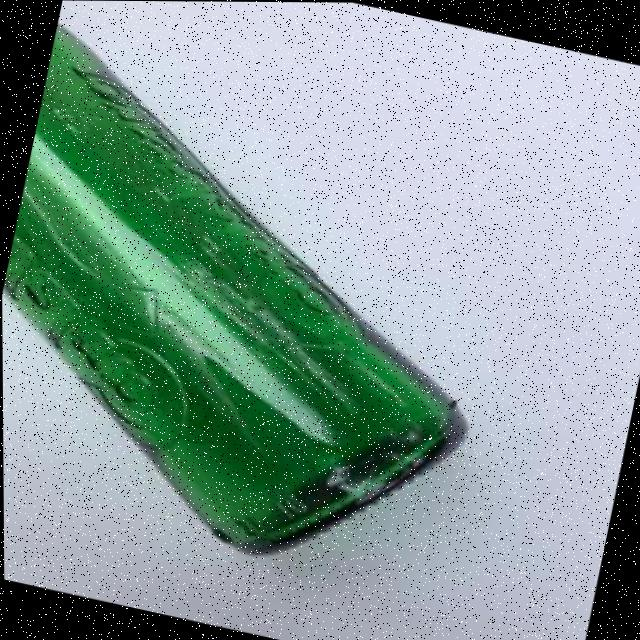glass: (0, 21, 559, 615)
